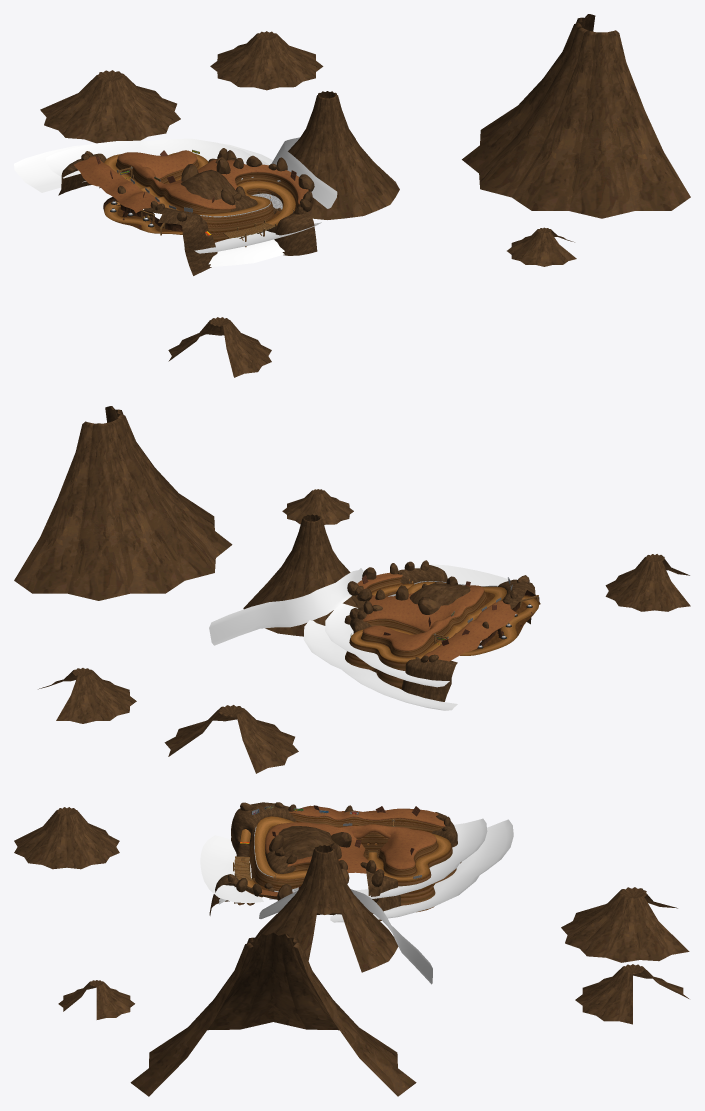
3 renders of one model, top to bottom at view 1: azimuth 30°, elevation 25°; view 2: azimuth 150°, elevation 25°; view 3: azimuth 270°, elevation 25°, orthographic. The views are drawn at different scales.
Parts seen in each view (by area): view 1: cliffSideTerrainMesh, fog6Mesh, chocolateSurfaceMesh, layerWallsMesh, roadSurfaceMesh, bigRocksMesh, bigRockMesh; view 2: cliffSideTerrainMesh, fog6Mesh, chocolateSurfaceMesh, layerWallsMesh, roadSurfaceMesh, bigRocksMesh, bigRockMesh; view 3: cliffSideTerrainMesh, fog6Mesh, chocolateSurfaceMesh, layerWallsMesh, bigRocksMesh, roadSurfaceMesh, bigRockMesh.
Part boxes in pixels (<box>): cliffSideTerrainMesh: <box>40,14,690,377</box>; fog6Mesh: <box>14,137,337,266</box>; chocolateSurfaceMesh: <box>74,150,308,212</box>; layerWallsMesh: <box>99,159,298,242</box>; roadSurfaceMesh: <box>104,152,295,235</box>; bigRocksMesh: <box>81,148,314,221</box>; bigRockMesh: <box>181,169,237,199</box>; cliffSideTerrainMesh: <box>14,406,690,773</box>; fog6Mesh: <box>209,564,535,710</box>; chocolateSurfaceMesh: <box>357,572,517,661</box>; layerWallsMesh: <box>345,577,486,689</box>; roadSurfaceMesh: <box>350,582,538,662</box>; bigRocksMesh: <box>344,560,529,662</box>; bigRockMesh: <box>409,583,470,605</box>; cliffSideTerrainMesh: <box>14,802,689,1096</box>; fog6Mesh: <box>200,818,513,984</box>; chocolateSurfaceMesh: <box>259,805,445,896</box>; layerWallsMesh: <box>249,813,456,912</box>; bigRocksMesh: <box>227,802,450,905</box>; roadSurfaceMesh: <box>240,816,450,889</box>; bigRockMesh: <box>278,826,334,859</box>.
Size of the model in its own units: 165986 by 41051 by 171330.
Materials: 19 (18 with a texture image).
